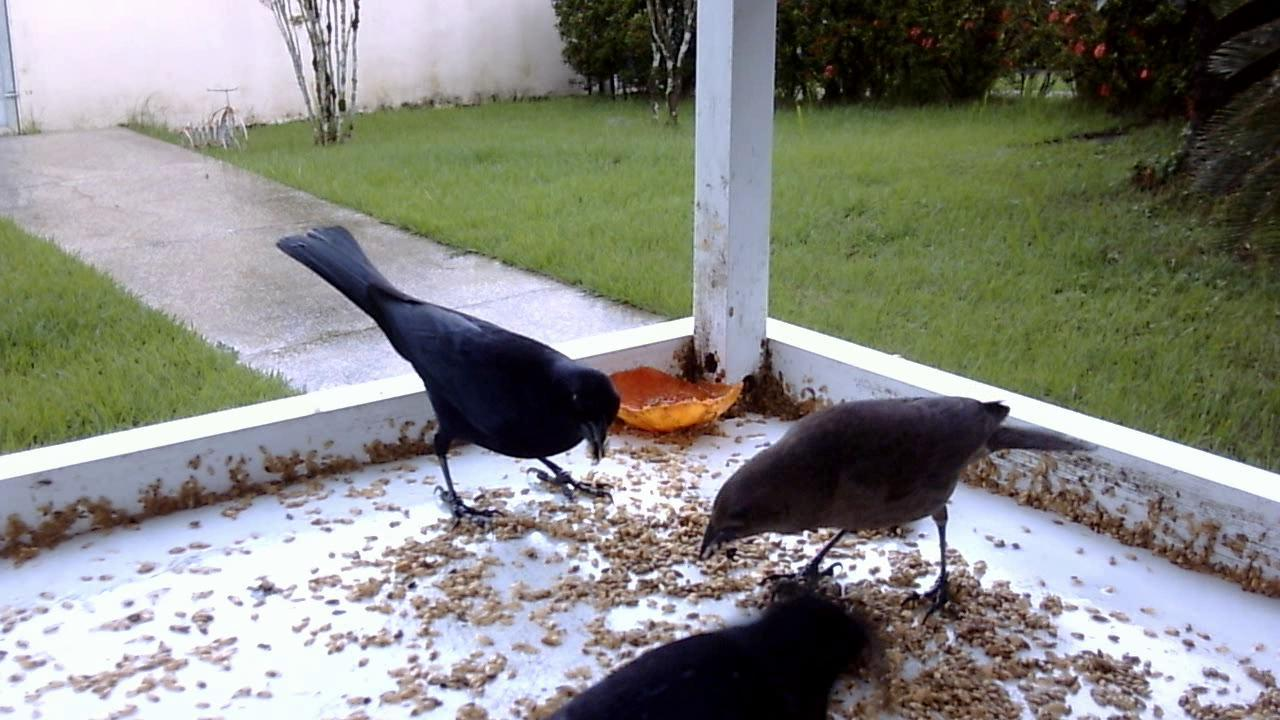chupim: (264, 226, 622, 535), (688, 385, 1090, 627), (540, 570, 878, 712)
